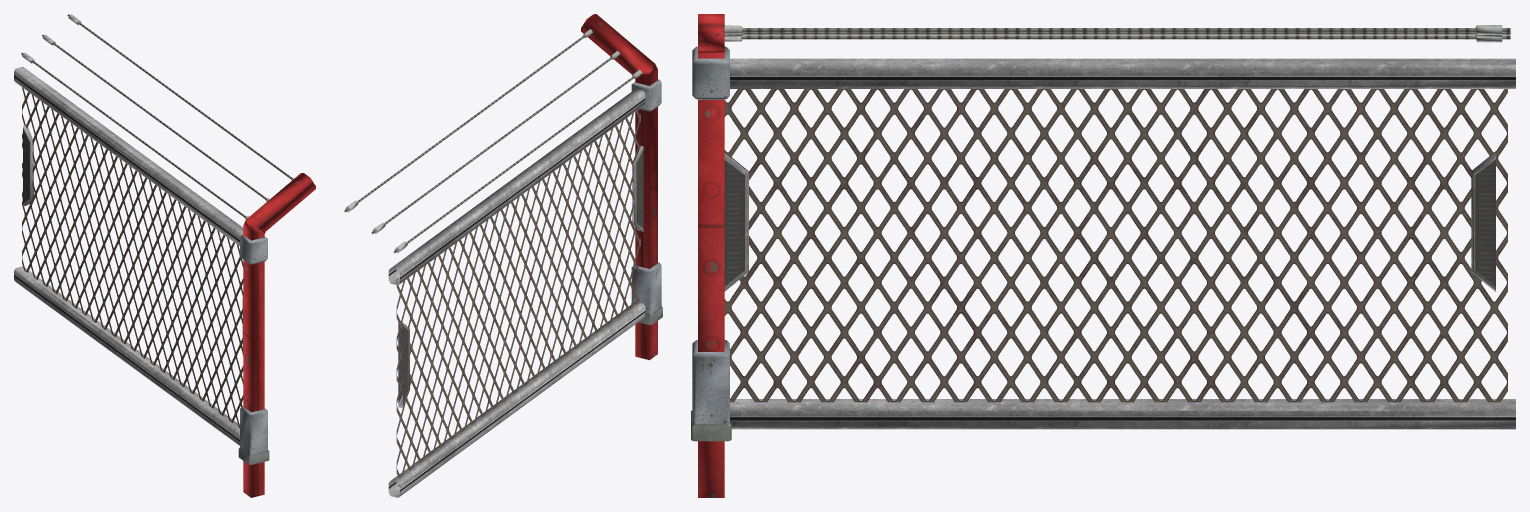
File: Ob_Fence2_RC.fbx
3 renders of one model, left to right at view 1: azimuth 30°, elevation 25°; view 2: azimuth 150°, elevation 25°; view 3: azimuth 270°, elevation 25°, orthographic. The views are drawn at different scales.
Parts seen in each view (by area): view 1: Ob_Fence2_RC; view 2: Ob_Fence2_RC; view 3: Ob_Fence2_RC.
Boxes of the visible parts, x1,y1,x2,y2 form: Ob_Fence2_RC: (14,14,315,497); Ob_Fence2_RC: (344,14,662,497); Ob_Fence2_RC: (691,14,1515,497).
Bounding box in the file's own units: 152 × 644 × 924.
